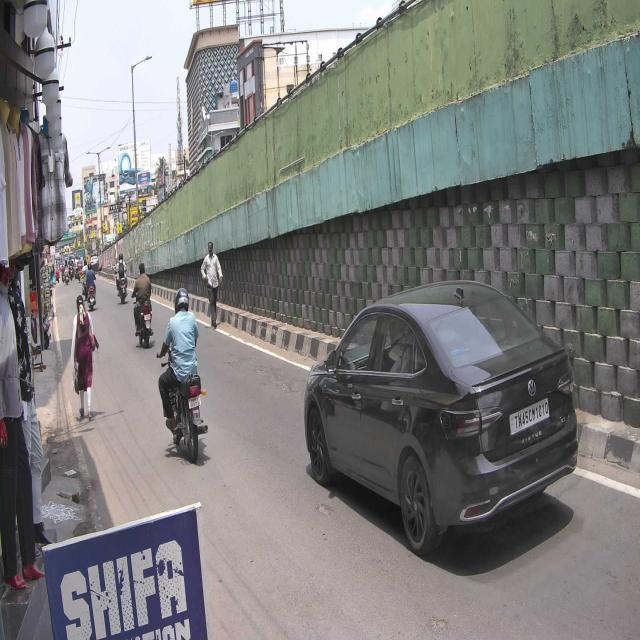single_rider: (155, 284, 212, 464)
